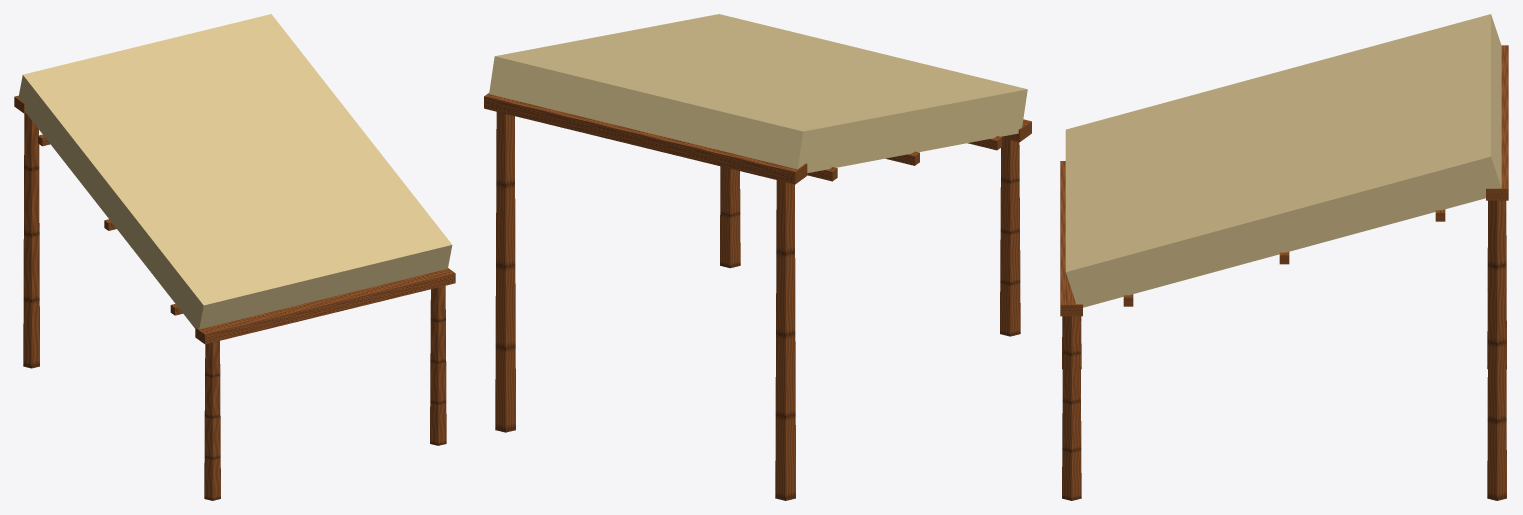
The model's file is safari-camp-and-bush-lodge-thatch-roof-section-1373d083__37677.glb.
3 views of the same model, side by side, from view 1: azimuth 30°, elevation 25°; view 2: azimuth 150°, elevation 25°; view 3: azimuth 270°, elevation 25° (orthographic). The views are drawn at different scales.
Visible parts, largest first — view 1: thatch-roof-section-thatch, thatch-roof-section-timber; view 2: thatch-roof-section-thatch, thatch-roof-section-timber; view 3: thatch-roof-section-thatch, thatch-roof-section-timber.
Part boxes in pixels (bbox=[...]): thatch-roof-section-thatch: bbox=[18, 14, 452, 329]; thatch-roof-section-timber: bbox=[14, 95, 455, 500]; thatch-roof-section-thatch: bbox=[489, 14, 1027, 173]; thatch-roof-section-timber: bbox=[484, 93, 1031, 500]; thatch-roof-section-thatch: bbox=[1065, 14, 1501, 307]; thatch-roof-section-timber: bbox=[1060, 45, 1508, 500].
Bounding box in the file's own units: 2.46 × 2.69 × 3.16.
Materials: 2 (1 with a texture image).
